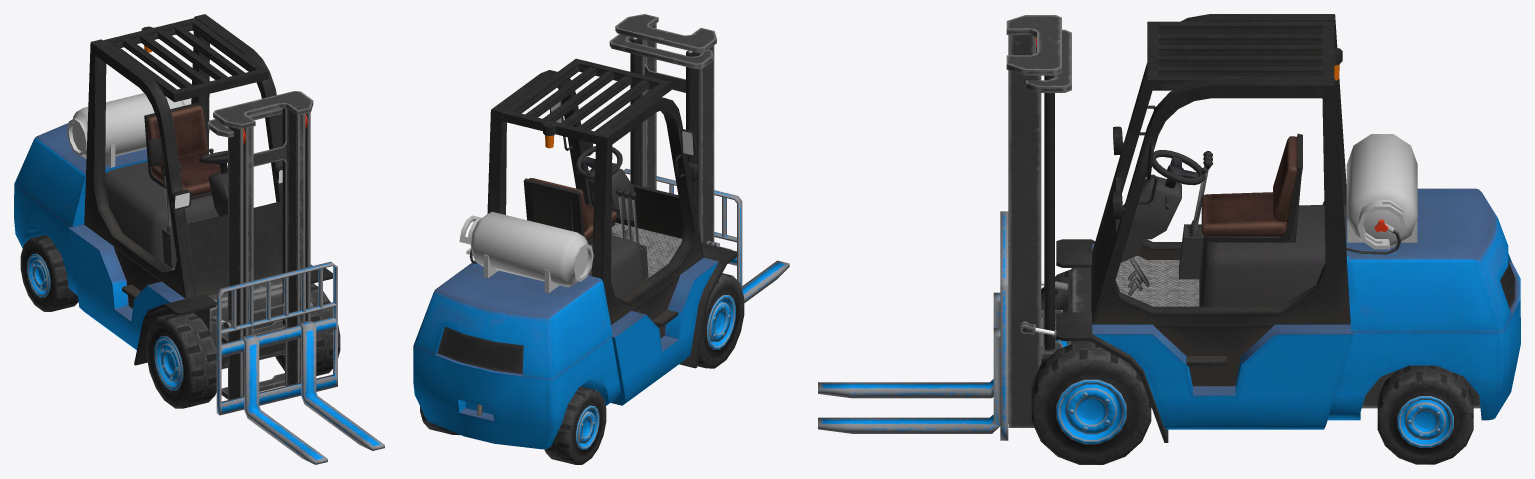
The model's file is FWS_Forklift_01_Blue.gltf.
The picture shows the model from 3 angles, left to right: view 1: azimuth 30°, elevation 25°; view 2: azimuth 150°, elevation 25°; view 3: azimuth 270°, elevation 25°; orthographic projection. The views are drawn at different scales.
Parts seen in each view (by area): view 1: Forklift_01, Forks, SecondaryMast, MainMast, FrontRightWheel_Mesh, RearRightWheel_Mesh, FrontLeftWheel_Mesh, SteeringWheel; view 2: Forklift_01, MainMast, SecondaryMast, RearRightWheel_Mesh, FrontRightWheel_Mesh, Forks, SteeringWheel; view 3: Forklift_01, MainMast, FrontLeftWheel_Mesh, Forks, RearLeftWheel_Mesh, SecondaryMast, SteeringWheel.
Boxes of the visible parts, x1=… form: Forklift_01: x1=14, y1=14, x2=332, y2=369; Forks: x1=216, y1=261, x2=384, y2=464; SecondaryMast: x1=213, y1=91, x2=313, y2=396; MainMast: x1=207, y1=108, x2=310, y2=399; FrontRightWheel_Mesh: x1=146, y1=313, x2=216, y2=408; RearRightWheel_Mesh: x1=20, y1=234, x2=78, y2=311; FrontLeftWheel_Mesh: x1=275, y1=283, x2=340, y2=375; SteeringWheel: x1=199, y1=148, x2=227, y2=173; Forklift_01: x1=413, y1=58, x2=737, y2=449; MainMast: x1=609, y1=34, x2=714, y2=243; SecondaryMast: x1=615, y1=14, x2=716, y2=189; RearRightWheel_Mesh: x1=544, y1=386, x2=606, y2=464; FrontRightWheel_Mesh: x1=697, y1=273, x2=744, y2=368; Forks: x1=623, y1=168, x2=789, y2=302; SteeringWheel: x1=576, y1=146, x2=622, y2=179; Forklift_01: x1=1020, y1=14, x2=1520, y2=442; MainMast: x1=1008, y1=29, x2=1071, y2=427; FrontLeftWheel_Mesh: x1=1031, y1=341, x2=1151, y2=464; Forks: x1=818, y1=211, x2=1008, y2=440; RearLeftWheel_Mesh: x1=1377, y1=365, x2=1473, y2=464; SecondaryMast: x1=1006, y1=15, x2=1061, y2=423; SteeringWheel: x1=1152, y1=150, x2=1207, y2=188.
Size of the model in its own units: 1.32 by 2.35 by 3.96.
4 materials, 3 textured.
